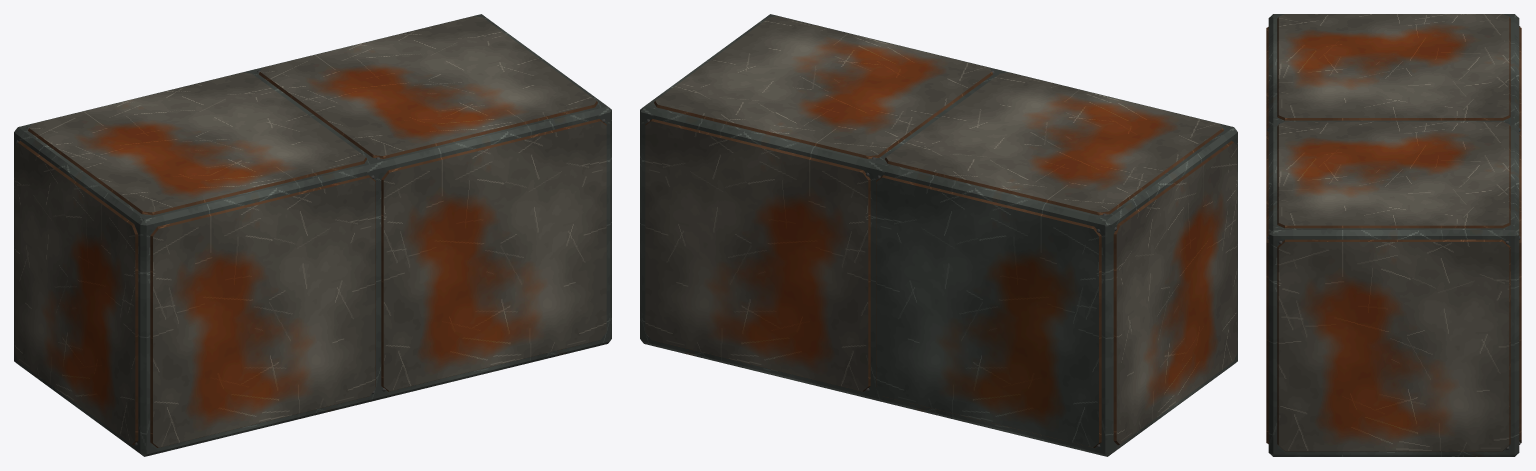
Rendered from R4B_Beam2.glb.
3 views of the same model, side by side, from view 1: azimuth 30°, elevation 25°; view 2: azimuth 150°, elevation 25°; view 3: azimuth 270°, elevation 25° (orthographic). The views are drawn at different scales.
Parts seen in each view (by area): view 1: R4B_Beam2; view 2: R4B_Beam2; view 3: R4B_Beam2.
Part boxes in pixels (x1,y1,x2,y2): R4B_Beam2: [14, 14, 611, 456]; R4B_Beam2: [640, 14, 1237, 456]; R4B_Beam2: [1266, 14, 1521, 456].
Size of the model in its own units: 1.07 by 0.52 by 0.52.
4 materials, 4 textured.
